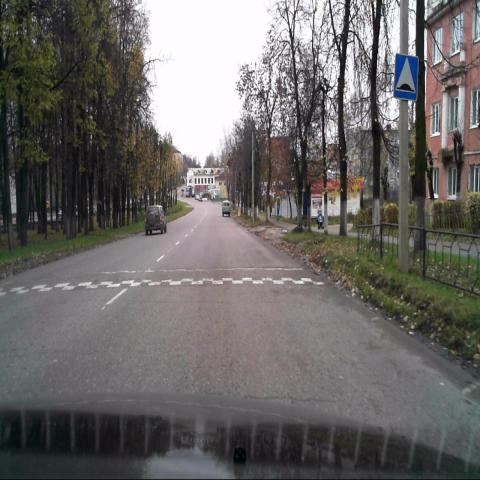5_20: (393, 54, 419, 102)
